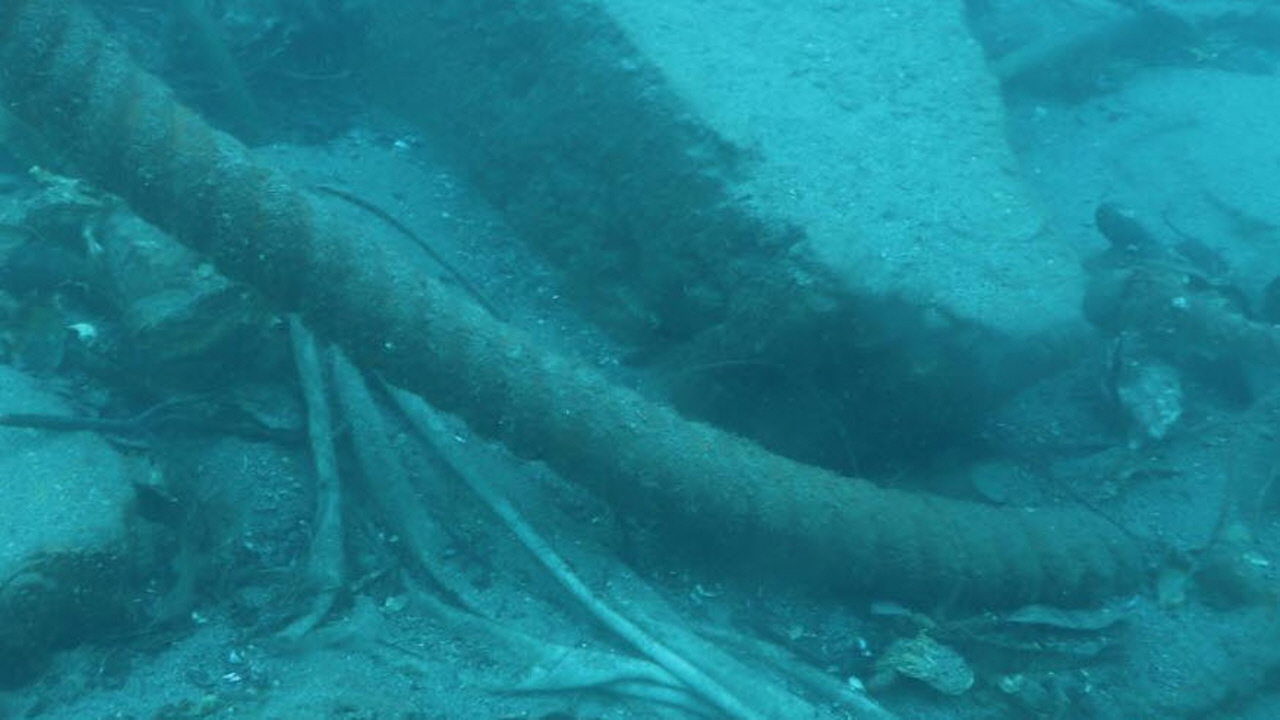rope: (0, 0, 1157, 601)
